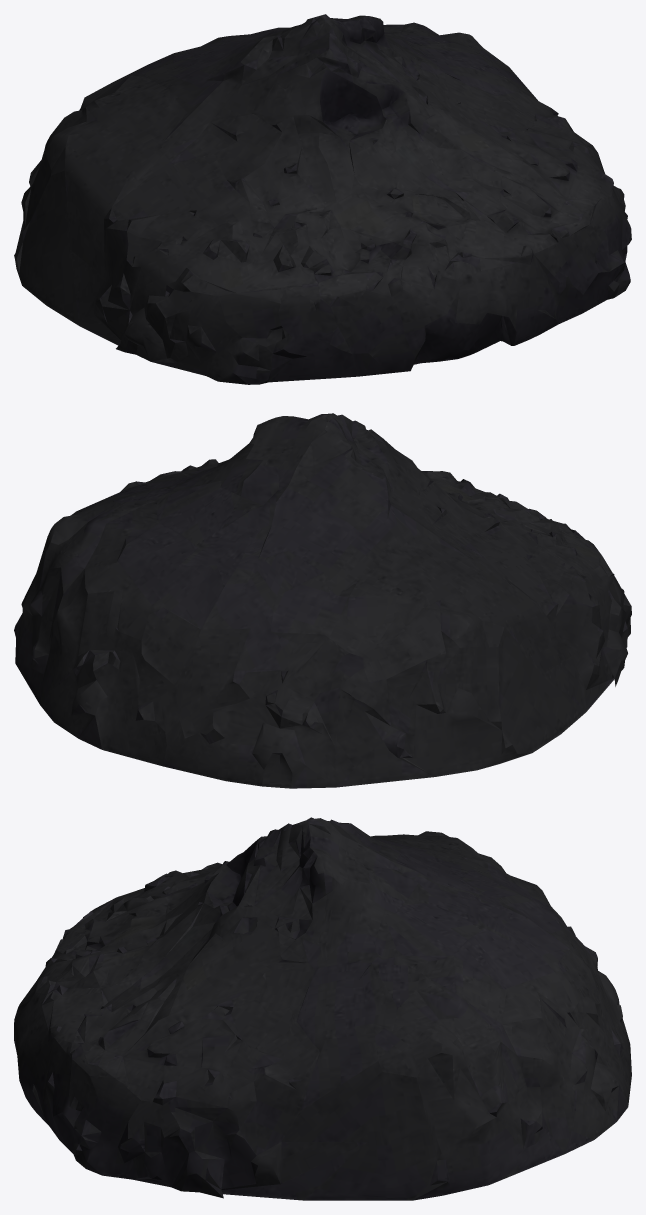
The model's file is asteroid-basalt.glb.
3 renders of one model, top to bottom at view 1: azimuth 30°, elevation 25°; view 2: azimuth 150°, elevation 25°; view 3: azimuth 270°, elevation 25°, orthographic. The views are drawn at different scales.
Size of the model in its own units: 1.89 by 0.8524 by 1.89.
Materials: 1 (1 with a texture image).
